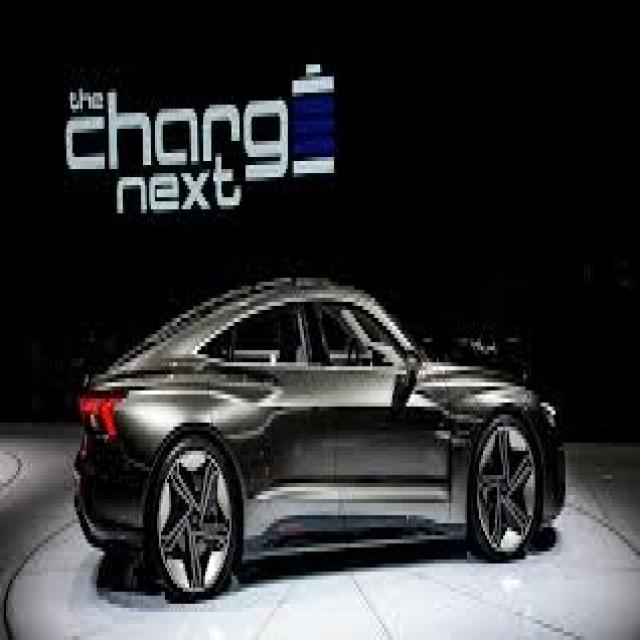black: (69, 274, 564, 600)
